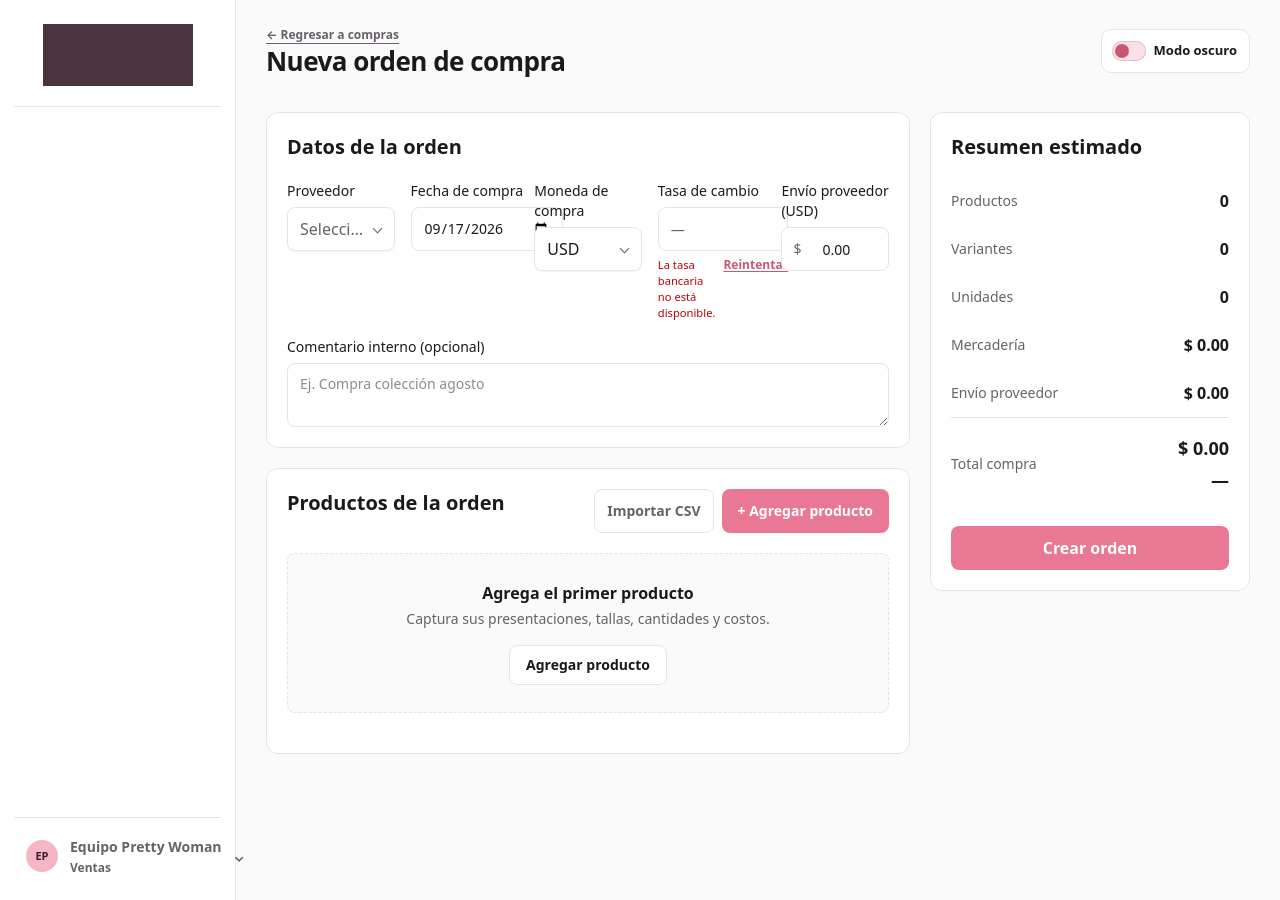
Test: PurchaseOrderCreatePage › shows the exchange-rate error and allows retrying before submission
Check: the text "Agrega el primer producto" is shown, box 482,582 -> 694,604
Check: the message reads "La tasa bancaria no está disponible.", box 658,257 -> 716,320
Click the button "Reintentar" at coordinates (756, 265), box 723,257 -> 788,273
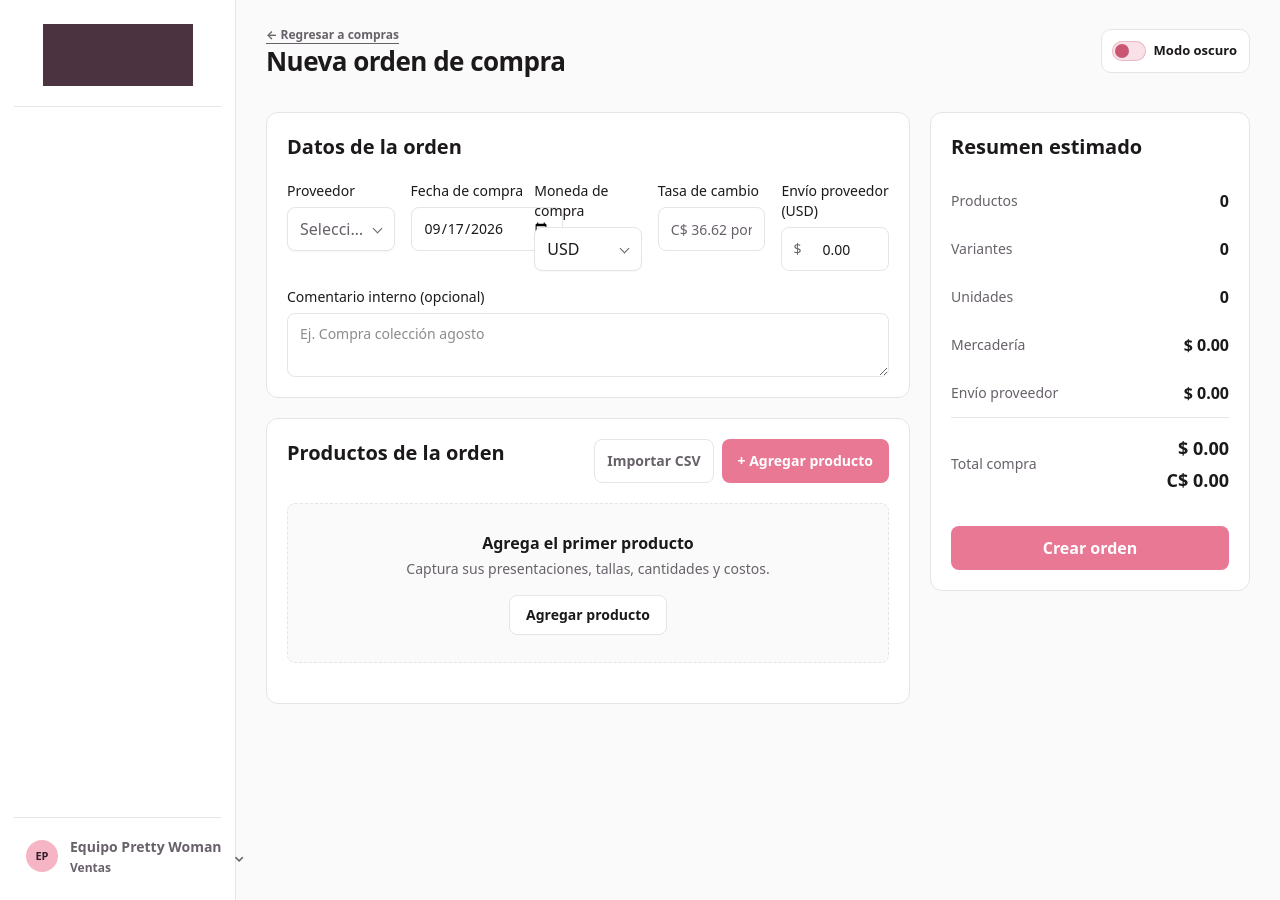
Check: the field named "Tasa de cambio" holds "C$ 36.62 por $1", box 658,207 -> 765,251
